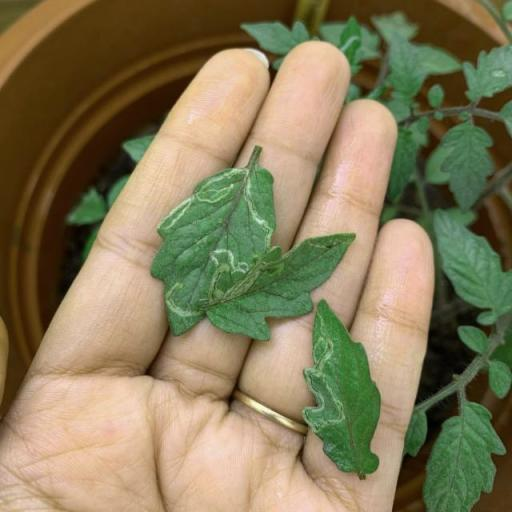disease_tomato: (150, 162, 276, 338), (302, 302, 384, 476)
